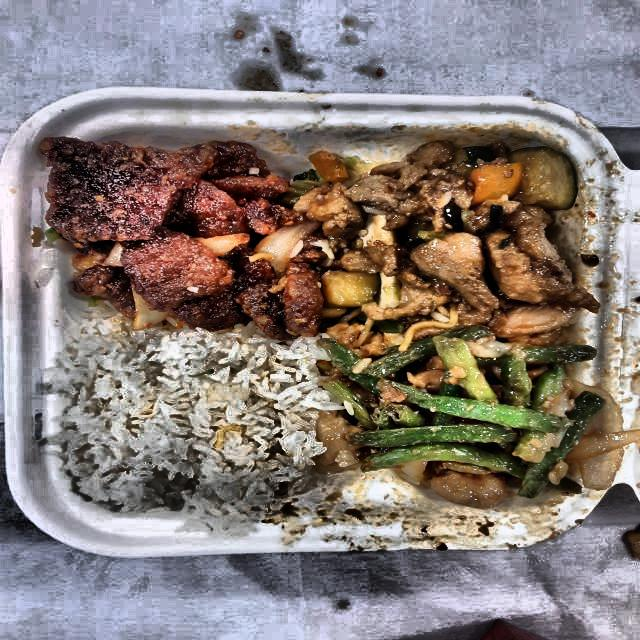Food: (307, 128, 587, 339), (41, 128, 312, 328), (331, 316, 614, 505), (55, 328, 322, 526)
